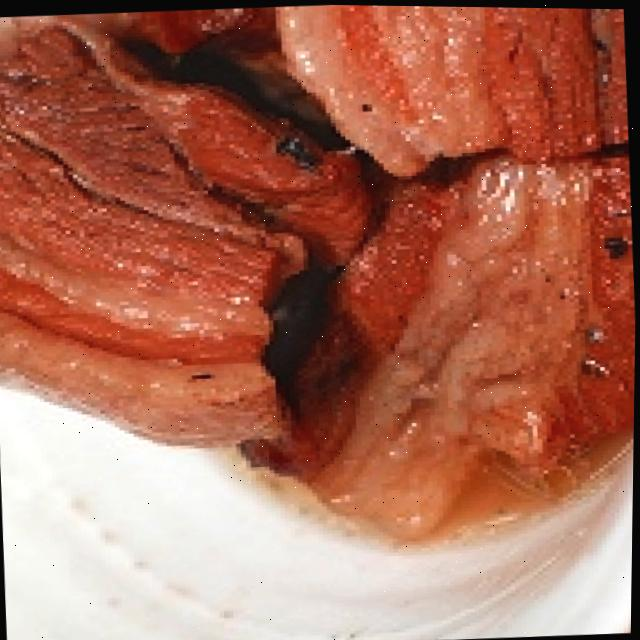猪肉菜式: (0, 0, 640, 597)
